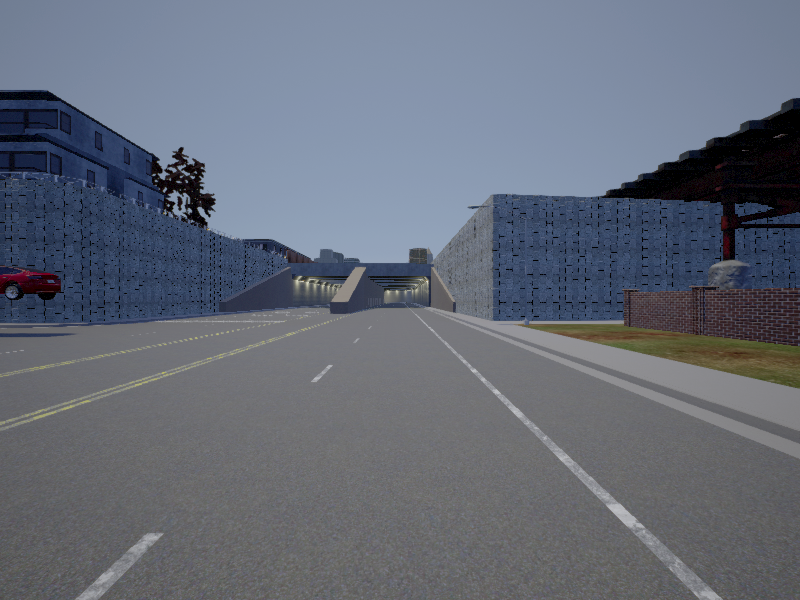Attacker: (1, 265, 62, 298)
